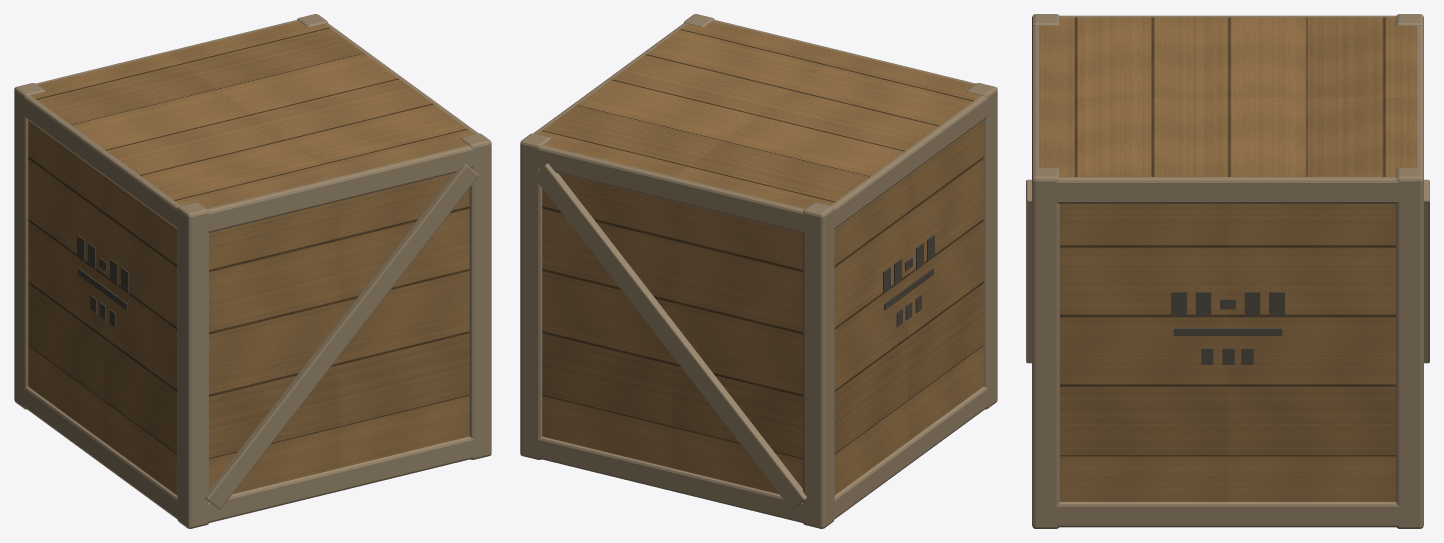
The model's file is crate.glb.
3 renders of one model, left to right at view 1: azimuth 30°, elevation 25°; view 2: azimuth 150°, elevation 25°; view 3: azimuth 270°, elevation 25°, orthographic. The views are drawn at different scales.
Visible parts, largest first — view 1: crate; view 2: crate; view 3: crate.
Part boxes in pixels (left/top/right/bottom): crate: left=14, top=14, right=491, bottom=528; crate: left=520, top=14, right=997, bottom=528; crate: left=1026, top=14, right=1429, bottom=528.
Size of the model in its own units: 1.12 by 1.11 by 1.15.
3 materials, 1 textured.
